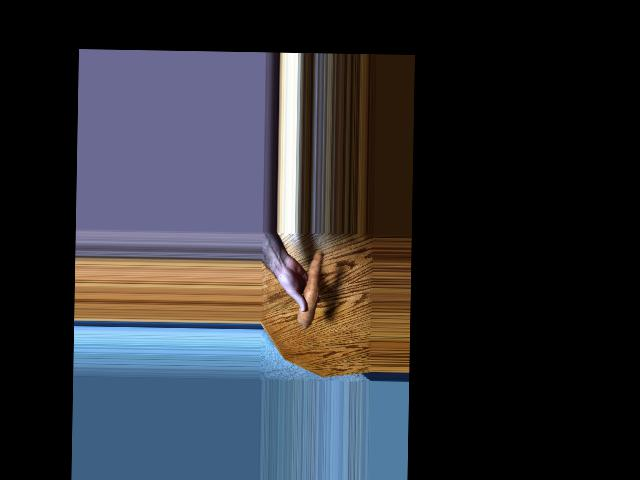sweet_potato: (303, 250, 320, 327)
